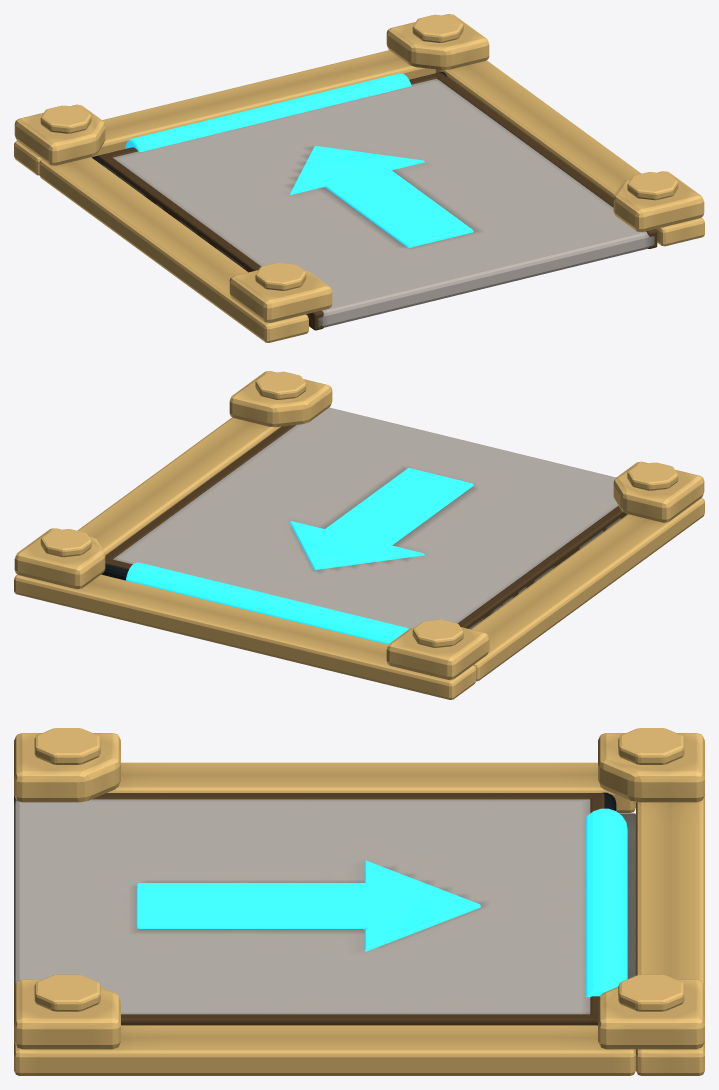
File: board_spring_1.glb
The picture shows the model from 3 angles, top to bottom: view 1: azimuth 30°, elevation 25°; view 2: azimuth 150°, elevation 25°; view 3: azimuth 270°, elevation 25°; orthographic projection. The views are drawn at different scales.
Visible parts, largest first — view 1: Plate, Gold3, Gold0, Arrow, Gold2, Glow, Bolt3, Bolt0, Bolt1, Bolt2, PlateEdgeL, PlateEdgeR (+4 smaller); view 2: Plate, Gold0, Gold3, Arrow, Gold2, Glow, Bolt1, Bolt2, Bolt3, Bolt0, PlateEdgeL, PlateEdgeR (+4 smaller); view 3: Plate, Gold2, Arrow, Gold3, Gold0, Glow, PlateEdgeR, Bolt0, Bolt2, Bolt1, Bolt3, PlateEdgeL (+5 smaller).
Boxes of the visible parts, box(x1,y1,x2,y2) form: Plate: box(102, 78, 654, 327); Gold3: box(39, 157, 308, 342); Gold0: box(14, 50, 435, 175); Arrow: box(289, 146, 473, 247); Gold2: box(435, 60, 704, 246); Glow: box(125, 73, 411, 151); Bolt3: box(229, 270, 332, 322); Bolt0: box(386, 14, 489, 70); Bolt1: box(14, 104, 105, 165); Bolt2: box(613, 171, 704, 232); PlateEdgeL: box(99, 155, 323, 330); PlateEdgeR: box(435, 73, 657, 248); Plate: box(113, 407, 627, 629); Gold0: box(14, 574, 476, 699); Gold3: box(471, 498, 704, 681); Arrow: box(289, 468, 473, 569); Gold2: box(77, 417, 281, 555); Glow: box(125, 562, 408, 644); Bolt1: box(386, 627, 489, 679); Bolt2: box(229, 371, 332, 427); Bolt3: box(613, 461, 704, 522); Bolt0: box(14, 528, 105, 589); PlateEdgeL: box(458, 506, 626, 628); PlateEdgeR: box(105, 425, 295, 559); Plate: box(14, 799, 590, 1014); Gold2: box(14, 1025, 635, 1075); Arrow: box(136, 860, 480, 951); Gold3: box(107, 762, 635, 812); Gold0: box(636, 795, 704, 1075); Glow: box(586, 808, 627, 997); PlateEdgeR: box(121, 1014, 597, 1025); Bolt0: box(598, 979, 704, 1049); Bolt2: box(14, 979, 120, 1049); Bolt1: box(598, 733, 704, 802); Bolt3: box(14, 733, 120, 802); PlateEdgeL: box(14, 793, 604, 802).
Bounding box in the file's own units: 1 × 0.1193 × 1.
